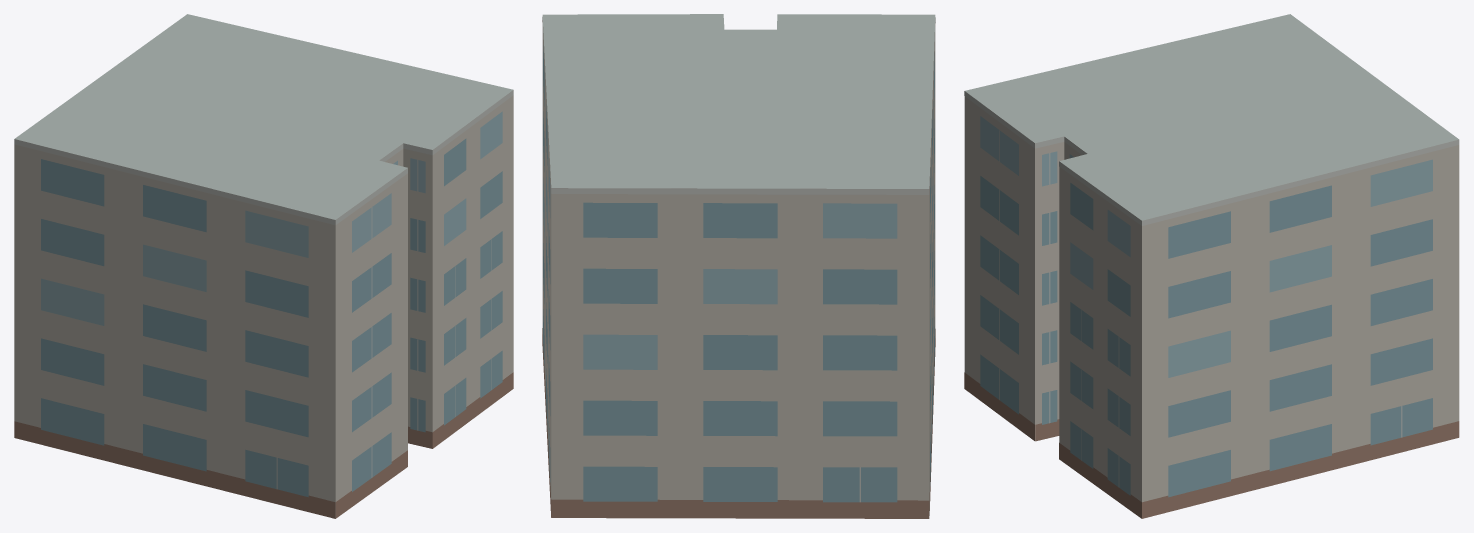
File: survey-upis-32606272.glb
3 renders of one model, left to right at view 1: azimuth 30°, elevation 25°; view 2: azimuth 150°, elevation 25°; view 3: azimuth 270°, elevation 25°, orthographic. The views are drawn at different scales.
Parts seen in each view (by area): view 1: survey-upis-32606272.tmp; view 2: survey-upis-32606272.tmp; view 3: survey-upis-32606272.tmp.
Boxes of the visible parts, bbox=[...] form: survey-upis-32606272.tmp: bbox=[14, 14, 513, 518]; survey-upis-32606272.tmp: bbox=[542, 14, 935, 518]; survey-upis-32606272.tmp: bbox=[964, 14, 1459, 518].
Bounding box in the file's own units: 20.39 × 13.7 × 20.62.
